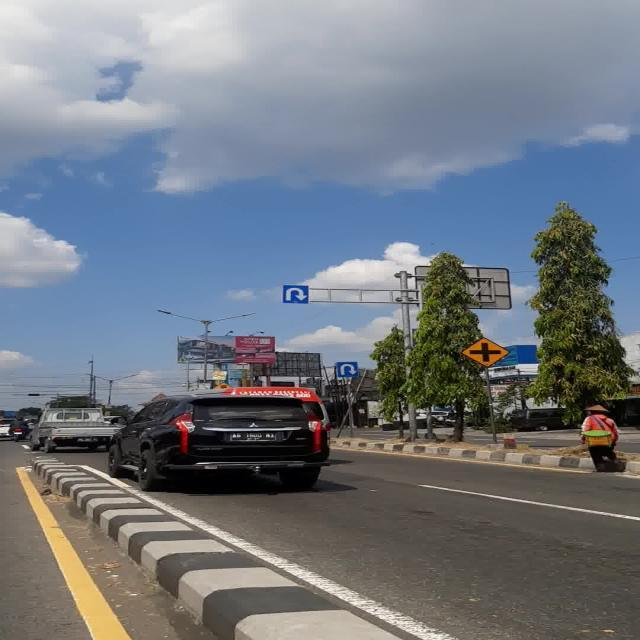Persimpangan 4: (460, 337, 511, 368)
Putar Balik: (282, 285, 308, 304), (335, 362, 360, 377)
